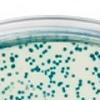Blue_green: (74, 44, 83, 53), (34, 65, 41, 73), (54, 53, 61, 59), (23, 72, 29, 79), (9, 57, 15, 63), (27, 47, 33, 53), (93, 50, 99, 56), (93, 65, 99, 71), (8, 94, 14, 100), (11, 63, 16, 70), (17, 45, 24, 50), (58, 81, 65, 86), (1, 52, 6, 58), (0, 66, 5, 72), (32, 43, 38, 48), (28, 61, 34, 66), (30, 58, 36, 63), (40, 61, 46, 66), (46, 58, 51, 64), (84, 46, 89, 52), (88, 53, 94, 58), (92, 56, 97, 62), (5, 85, 11, 90), (2, 89, 7, 95), (19, 81, 25, 86), (21, 94, 26, 100), (41, 89, 46, 95), (48, 74, 54, 79), (75, 86, 81, 91), (78, 79, 84, 84), (96, 73, 100, 80), (91, 96, 98, 100), (39, 44, 44, 49), (41, 50, 46, 55), (63, 47, 68, 52), (69, 50, 74, 55), (84, 67, 89, 72), (72, 58, 77, 63), (55, 62, 60, 67), (7, 72, 12, 77), (1, 77, 6, 82), (30, 68, 35, 73), (66, 66, 71, 71), (86, 80, 91, 85), (90, 81, 95, 86), (14, 95, 19, 100), (51, 71, 56, 76), (78, 83, 83, 88), (4, 64, 8, 70), (24, 42, 28, 48), (14, 72, 20, 76), (43, 70, 47, 76), (50, 65, 54, 71), (26, 96, 32, 100), (75, 94, 81, 98), (75, 91, 81, 95), (2, 59, 6, 64), (9, 52, 14, 56), (24, 58, 29, 62), (65, 60, 70, 64), (67, 56, 72, 60), (40, 70, 45, 74), (72, 73, 76, 78), (60, 66, 65, 70), (36, 84, 40, 89), (29, 84, 34, 88), (33, 94, 38, 98), (17, 90, 22, 94), (46, 92, 50, 97), (50, 94, 55, 98), (49, 77, 53, 82), (56, 84, 61, 88), (81, 96, 86, 100), (94, 92, 99, 96), (62, 87, 65, 93), (35, 47, 39, 51), (43, 41, 47, 45), (44, 49, 48, 53), (48, 45, 52, 49), (28, 56, 32, 60), (52, 60, 56, 64), (10, 81, 14, 85), (27, 80, 31, 84), (63, 74, 67, 78), (66, 71, 70, 75), (60, 70, 64, 74), (66, 84, 70, 88), (64, 94, 68, 98), (39, 87, 43, 91), (51, 90, 55, 94), (49, 81, 53, 85), (52, 81, 56, 85), (92, 87, 96, 91), (96, 89, 100, 93), (15, 54, 18, 59), (38, 55, 43, 58), (39, 82, 44, 85), (58, 60, 62, 63), (46, 69, 50, 72), (48, 85, 51, 89), (30, 92, 33, 96), (18, 97, 22, 100), (22, 90, 25, 94), (91, 71, 94, 74), (53, 66, 56, 69), (84, 43, 88, 45), (98, 55, 100, 59), (4, 98, 6, 100)
